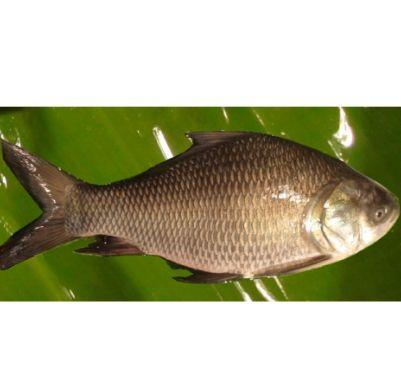Indian Carp: (0, 126, 401, 285)
